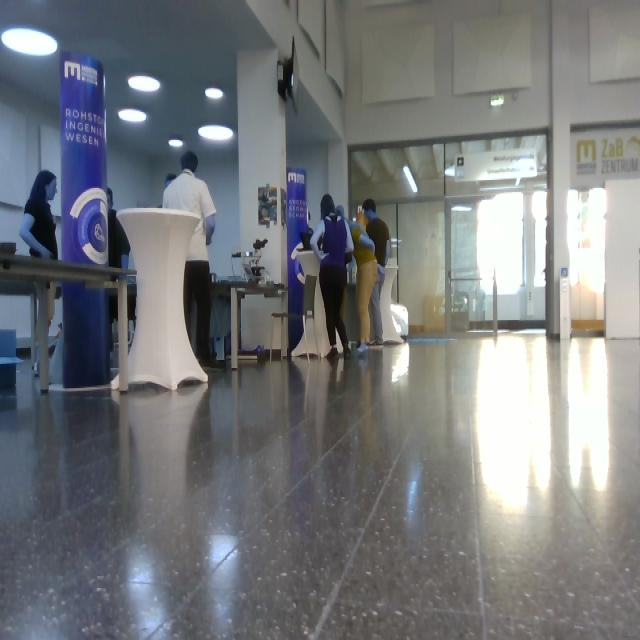door: (397, 200, 447, 333)
light bulb: (70, 188, 109, 265), (1, 26, 58, 57), (128, 74, 161, 93), (198, 125, 234, 141), (532, 190, 547, 221), (118, 108, 147, 124), (403, 165, 418, 193), (205, 86, 224, 100), (168, 137, 183, 148)
person: (163, 150, 219, 369), (19, 170, 60, 377), (310, 194, 355, 360), (348, 205, 378, 354), (362, 199, 392, 347), (106, 188, 132, 348)
pillar: (59, 50, 111, 388), (116, 207, 209, 391)
tiled floor: (1, 331, 639, 639)
